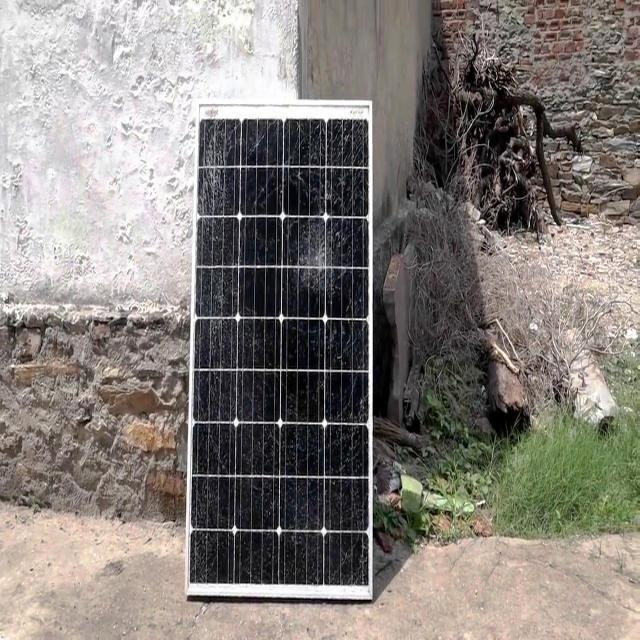Anomaly Solar Panel: (188, 112, 373, 595)
Structural Damage: (200, 134, 238, 331), (284, 215, 353, 298)
